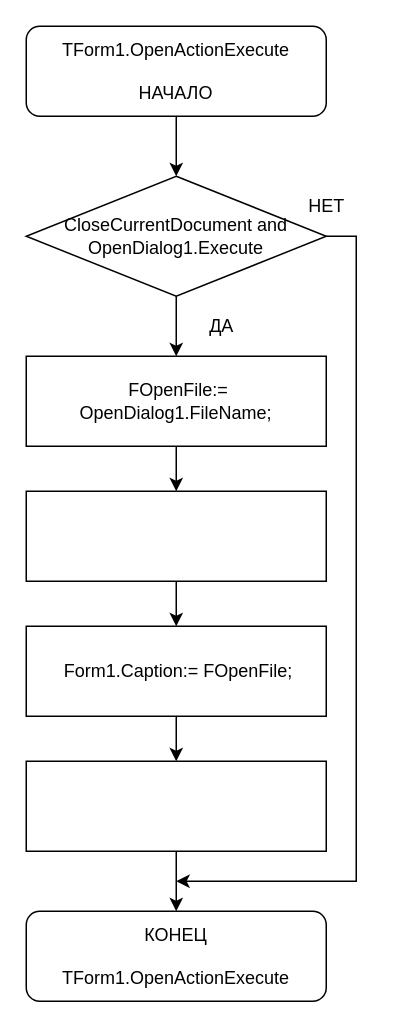
Image size: 395x1028. Some labels were removed from this diagram. The shapes that lost their labels are listed below. From the top down, each one's centre as x and y in pixels, then its label:
At pixel 175 535: "Memo1.Lines.LoadFromFile (FOpenFile);".
At pixel 175 805: "Memo1.Modified:= False;".
